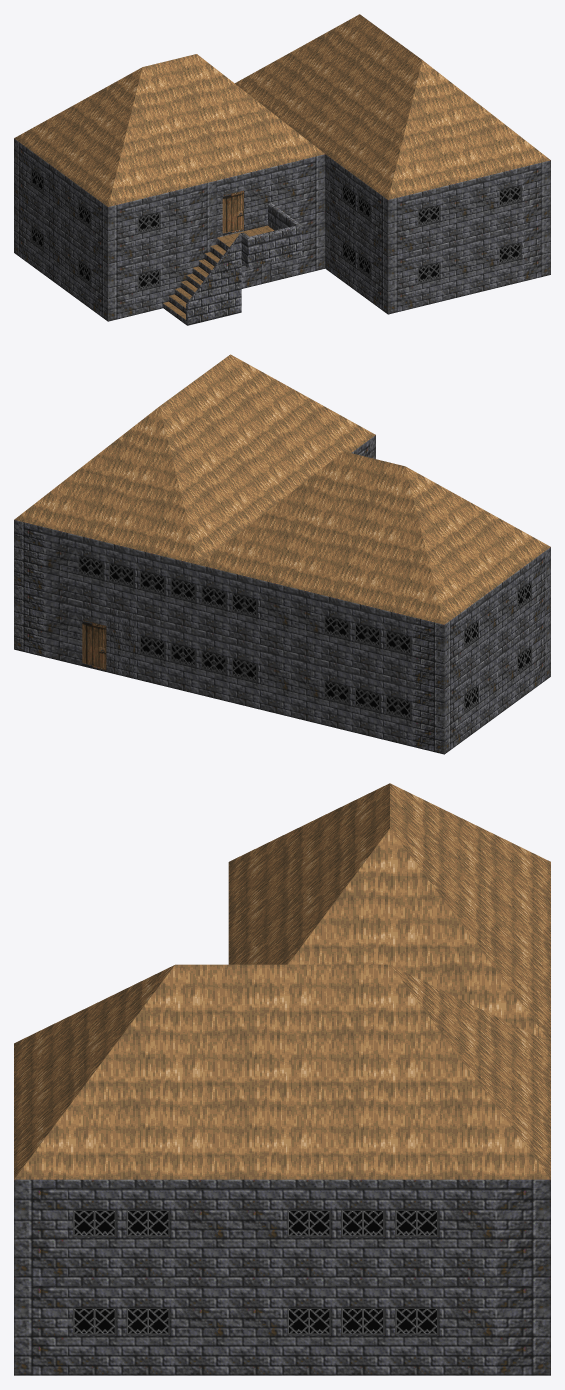
The model's file is housew1.fbx.
The picture shows the model from 3 angles, top to bottom: view 1: azimuth 30°, elevation 25°; view 2: azimuth 150°, elevation 25°; view 3: azimuth 270°, elevation 25°; orthographic projection. The views are drawn at different scales.
Visible parts, largest first — view 1: model0-node; view 2: model0-node; view 3: model0-node.
Boxes of the visible parts, x1,y1,x2,y2 form: model0-node: (14, 14, 550, 325); model0-node: (14, 354, 550, 754); model0-node: (14, 783, 550, 1375).
Bounding box in the file's own units: 89600 × 45100 × 64000.
Materials: 8 (7 with a texture image).
